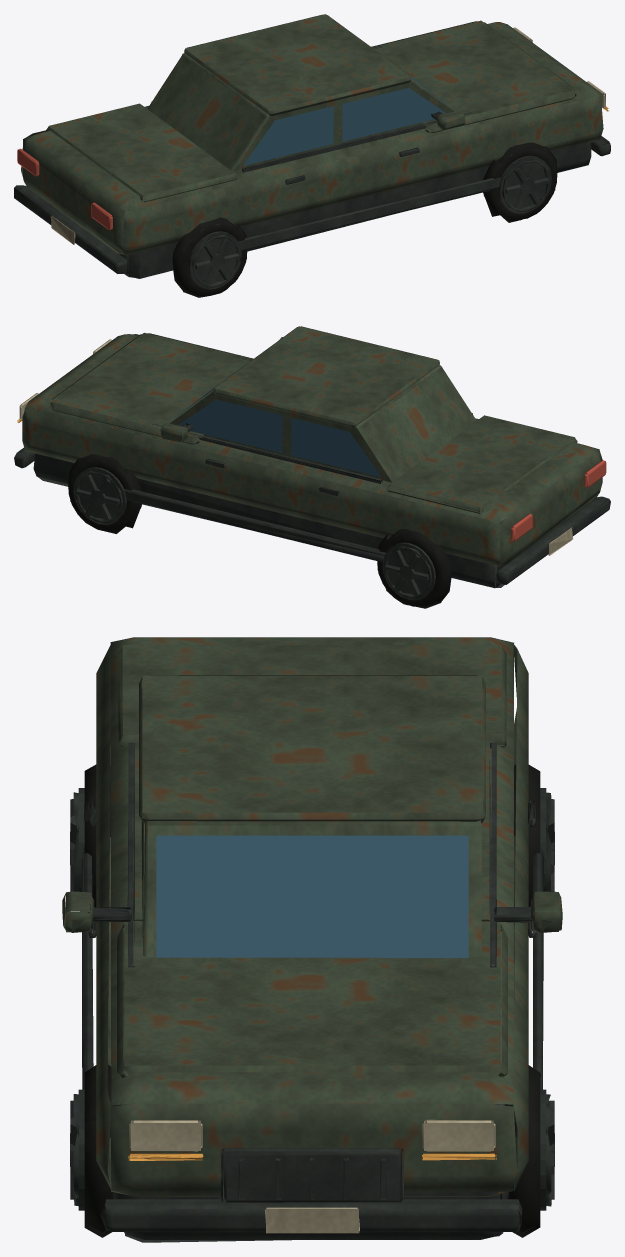
The model's file is parked_car.glb.
3 renders of one model, top to bottom at view 1: azimuth 30°, elevation 25°; view 2: azimuth 150°, elevation 25°; view 3: azimuth 270°, elevation 25°, orthographic. The views are drawn at different scales.
Visible parts, largest first — view 1: parked_car_premium; view 2: parked_car_premium; view 3: parked_car_premium.
Boxes of the visible parts, bbox=[...] form: parked_car_premium: bbox=[14, 14, 610, 297]; parked_car_premium: bbox=[14, 326, 610, 608]; parked_car_premium: bbox=[62, 637, 562, 1242].
Size of the model in its own units: 4.52 by 1.38 by 1.96.
Materials: 7 (4 with a texture image).
